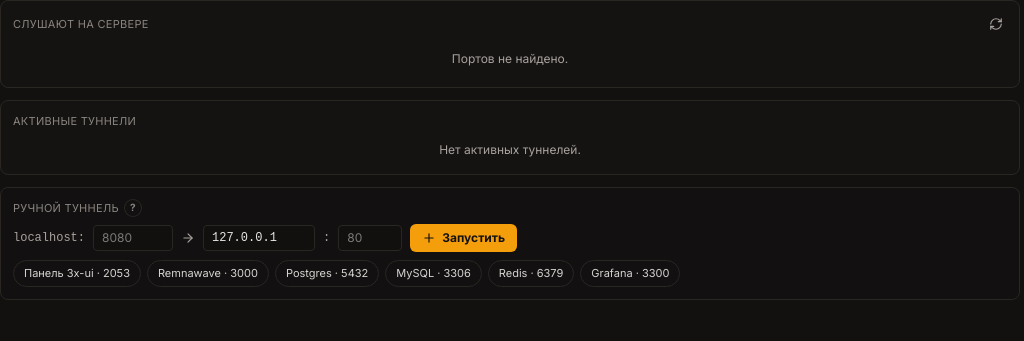
ForwardsPane IPC failures › shows rejected open and releases busy so the user can retry
The width and height of the screenshot is (1024, 341).
What coordinates should you click on to do the following:
click the button "Postgres · 5432"
I would click on:
 (327, 273)
Its box is [275, 260, 379, 286].
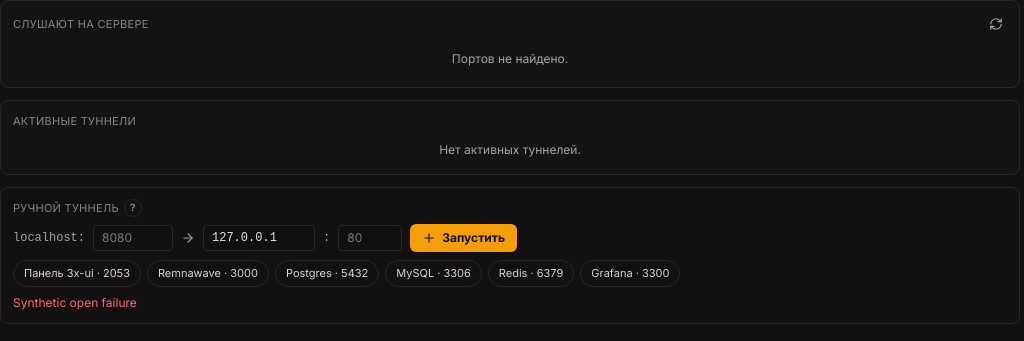
Result: the text "Synthetic open failure" is shown at [13, 294, 137, 310]
What coordinates should you click on to do the following:
click the button "Postgres · 5432"
I would click on:
 (327, 273)
Its box is [275, 260, 379, 286].
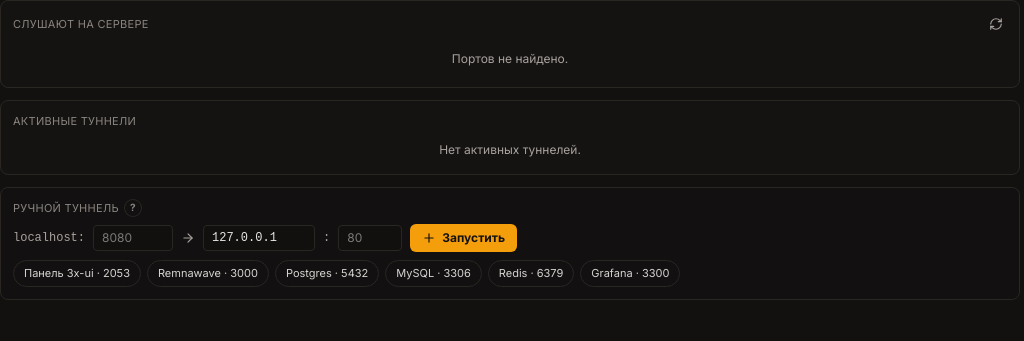
Result: the text "Synthetic open failure" is gone
